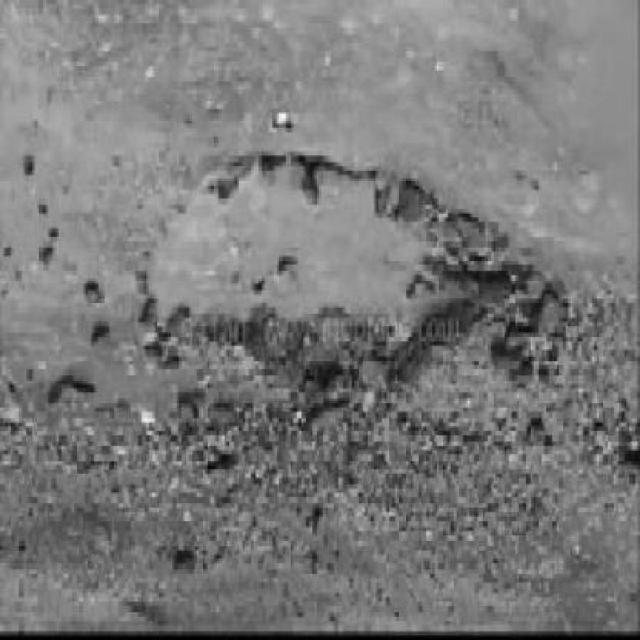pothole: (140, 152, 518, 406)
